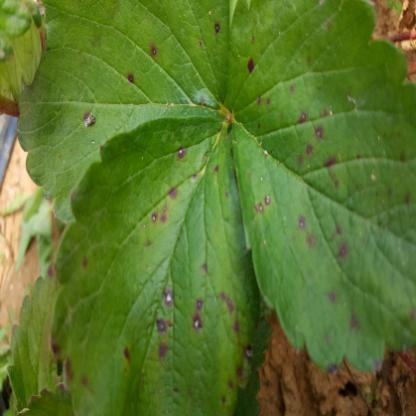Strawberry_Leaf_Spot: (226, 0, 415, 377), (51, 115, 260, 415), (16, 0, 233, 228)
